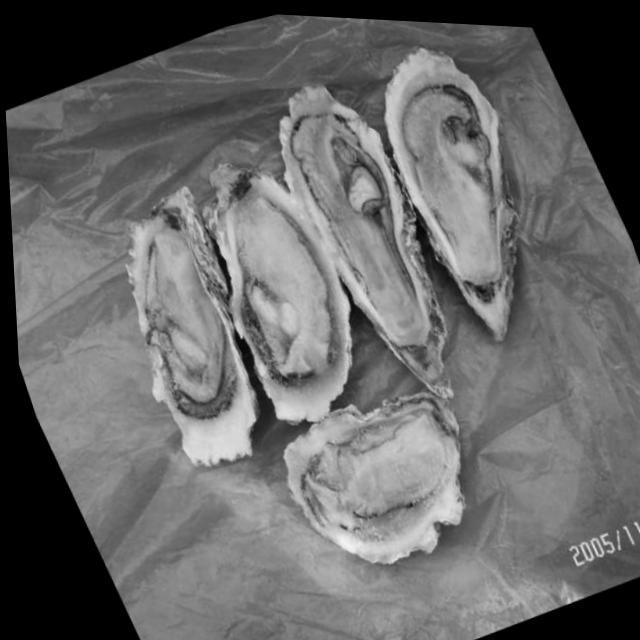Oyster-Open: (251, 62, 478, 425), (358, 28, 573, 358), (179, 137, 389, 439), (86, 174, 282, 479), (263, 370, 501, 593)
